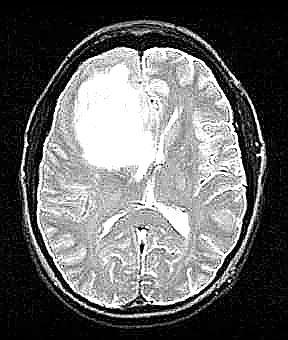Tumor: (70, 59, 178, 178)
